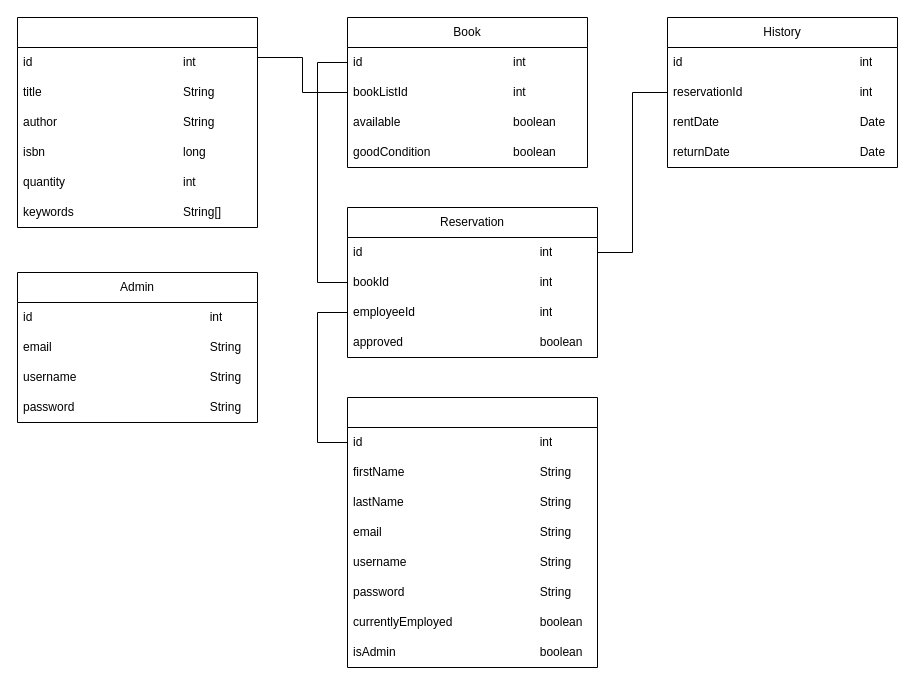
Image size: 915x685. Some labels were removed from this diagram. Each missing label, with the box of its shape:
Books: (16, 16, 258, 228)
Employees: (346, 396, 598, 668)
